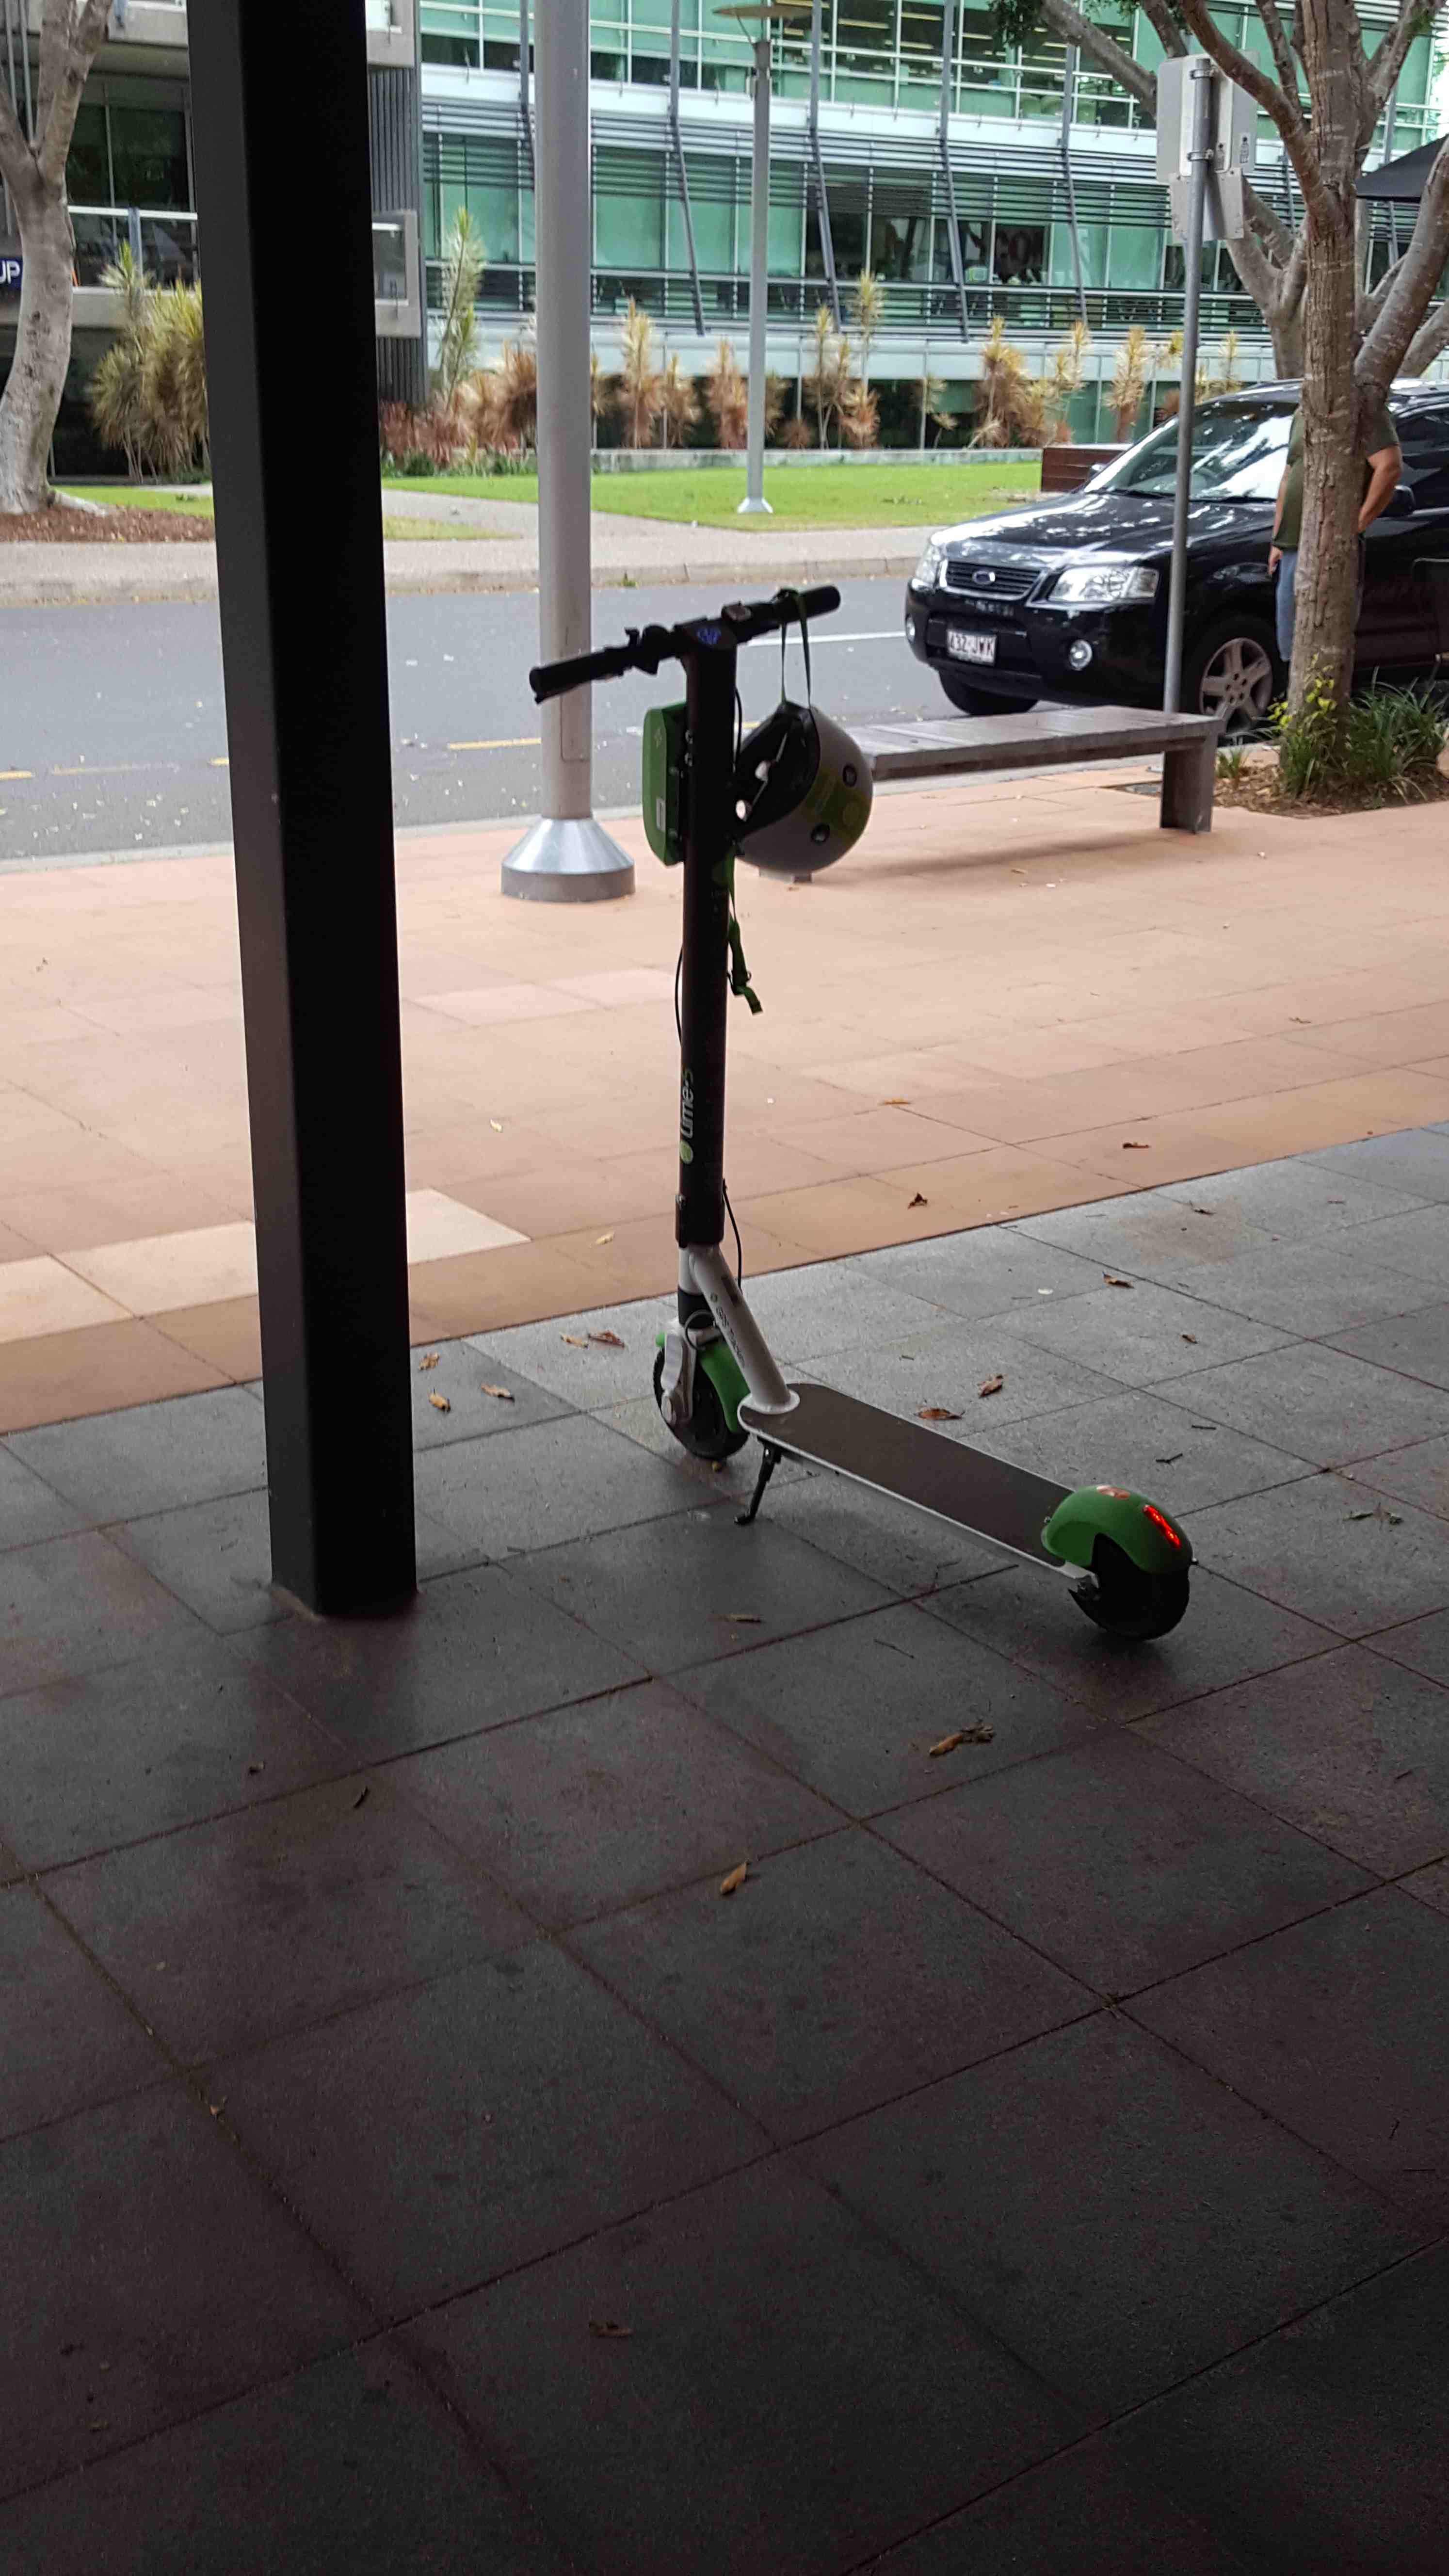scooter: (497, 582, 1253, 1638)
